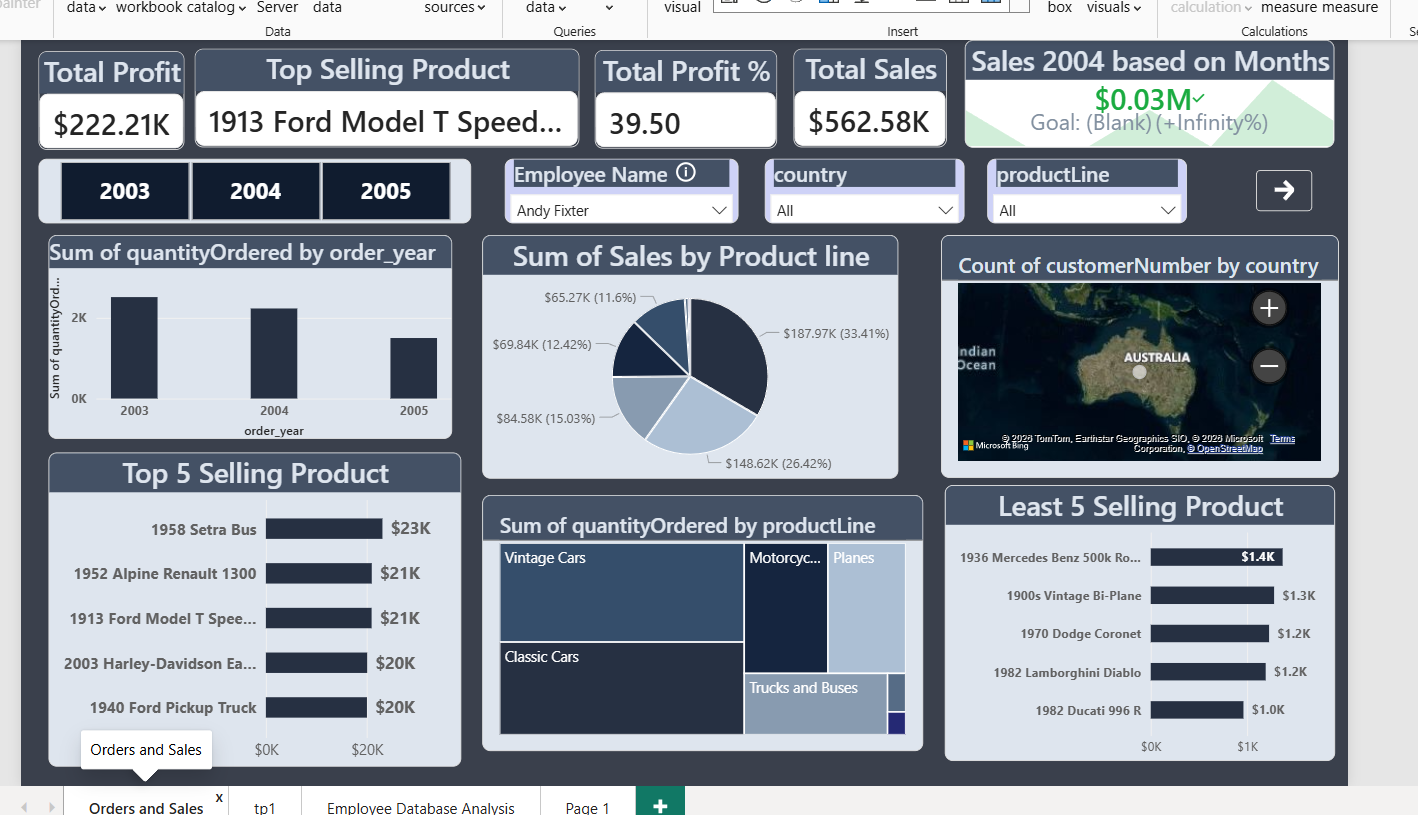

Layout of this report page (visuals, bound fields, positions):
{"tool":"powerbi","page":{"name":"Orders and Sales","canvas":[1280,720],"ordinal":0},"visuals":[{"type":"pieChart","title":"Sales Distribution by Product Line","fields":{"Category":["product database.productLine"],"Y":["Sum(order details.sales)"]},"box":[445.2,188.2,425.9,235.3],"z":0},{"type":"cardVisual","title":"Total Profit","fields":{"Data":["order details.total_profit"]},"box":[16.9,10.9,141.2,82],"z":1000},{"type":"cardVisual","title":"Top Selling Product","fields":{"Data":["order details.Most Ordered Product"]},"box":[167.7,8.4,360.7,84.5],"z":2000},{"type":"barChart","title":"Top 5 Selling Product","fields":{"Category":["products.productName"],"Y":["Sum(order details.sales)"]},"box":[26.5,398.1,398.1,302.8],"z":3000},{"type":"kpi","title":"Sales 2004 based on Months","fields":{"Goal":["order details.sales_2003"],"Indicator":["order details.sales_2004"],"TrendLine":["order.orderDate.Variation.Date Hierarchy.Month"]},"box":[910.9,8.4,357.1,95.3],"z":4000},{"type":"map","title":"Customer Distribution Across Countries","fields":{"Category":["customer database.country"],"Size":["CountNonNull(customer database.customerNumber)"]},"box":[887.9,188.2,383.6,234],"z":5000},{"type":"slicer","fields":{"Values":["order.shippedDate.Variation.Date Hierarchy.Year"]},"box":[16.9,114.6,417.4,62.7],"z":6000},{"type":"treemap","title":"Product Line Performance Analysis","fields":{"Group":["productlines.productLine"],"Values":["Sum(order details.quantityOrdered)"]},"box":[445.2,439.1,425.9,247.3],"z":7000},{"type":"columnChart","title":"Order Quantity Trend (2003–2005)","fields":{"Category":["order.order_year"],"Y":["Sum(order details.quantityOrdered)"]},"box":[26.5,188.2,389.7,196.6],"z":8000},{"type":"cardVisual","title":"Total Profit %","fields":{"Data":["classic_models_dataset (2).Profit_measure%"]},"box":[541.7,8.4,176.1,84.5],"z":9000},{"type":"cardVisual","title":"Total Sales","fields":{"Data":["Sum(order details.sales)"]},"box":[739.5,8.4,148.4,84.5],"z":10000},{"type":"barChart","title":"Lowest Performing Products","fields":{"Category":["products.productName"],"Y":["Sum(order details.sales)"]},"box":[891.6,429.5,376.4,266.6],"z":11000},{"type":"slicer","fields":{"Values":["employee database.Name"]},"box":[466.9,114.6,225.6,62.7],"z":12000},{"type":"slicer","fields":{"Values":["customer database.country"]},"box":[717.8,114.6,193,62.7],"z":13000},{"type":"slicer","fields":{"Values":["productlines.productLine"]},"box":[932.6,114.6,193,62.7],"z":14000},{"type":"actionButton","box":[616.5,108.6,50.7,37.4],"z":15000},{"type":"actionButton","box":[1192,125.5,54.3,39.8],"z":16000},{"type":"actionButton","box":[770.9,377.6,100.1,39.8],"z":16001}]}

Visuals, with their boxes on the page's 1280x720 design canvas (x1, y1, x2, y2). These are canvas units, not pixel positions in the 1418x815 screenshot, which may show the page scaled, cropped or inside an application window:
"Sales Distribution by Product Line" pieChart: {"x1": 445, "y1": 188, "x2": 871, "y2": 424}
"Total Profit" cardVisual: {"x1": 17, "y1": 11, "x2": 158, "y2": 93}
"Top Selling Product" cardVisual: {"x1": 168, "y1": 8, "x2": 528, "y2": 93}
"Top 5 Selling Product" barChart: {"x1": 26, "y1": 398, "x2": 425, "y2": 701}
"Sales 2004 based on Months" kpi: {"x1": 911, "y1": 8, "x2": 1268, "y2": 104}
"Customer Distribution Across Countries" map: {"x1": 888, "y1": 188, "x2": 1272, "y2": 422}
slicer - order.shippedDate.Variation.Date Hierarchy.Year: {"x1": 17, "y1": 115, "x2": 434, "y2": 177}
"Product Line Performance Analysis" treemap: {"x1": 445, "y1": 439, "x2": 871, "y2": 686}
"Order Quantity Trend (2003–2005)" columnChart: {"x1": 26, "y1": 188, "x2": 416, "y2": 385}
"Total Profit %" cardVisual: {"x1": 542, "y1": 8, "x2": 718, "y2": 93}
"Total Sales" cardVisual: {"x1": 740, "y1": 8, "x2": 888, "y2": 93}
"Lowest Performing Products" barChart: {"x1": 892, "y1": 430, "x2": 1268, "y2": 696}
slicer - employee database.Name: {"x1": 467, "y1": 115, "x2": 692, "y2": 177}
slicer - customer database.country: {"x1": 718, "y1": 115, "x2": 911, "y2": 177}
slicer - productlines.productLine: {"x1": 933, "y1": 115, "x2": 1126, "y2": 177}
actionButton: {"x1": 616, "y1": 109, "x2": 667, "y2": 146}
actionButton: {"x1": 1192, "y1": 126, "x2": 1246, "y2": 165}
actionButton: {"x1": 771, "y1": 378, "x2": 871, "y2": 417}
